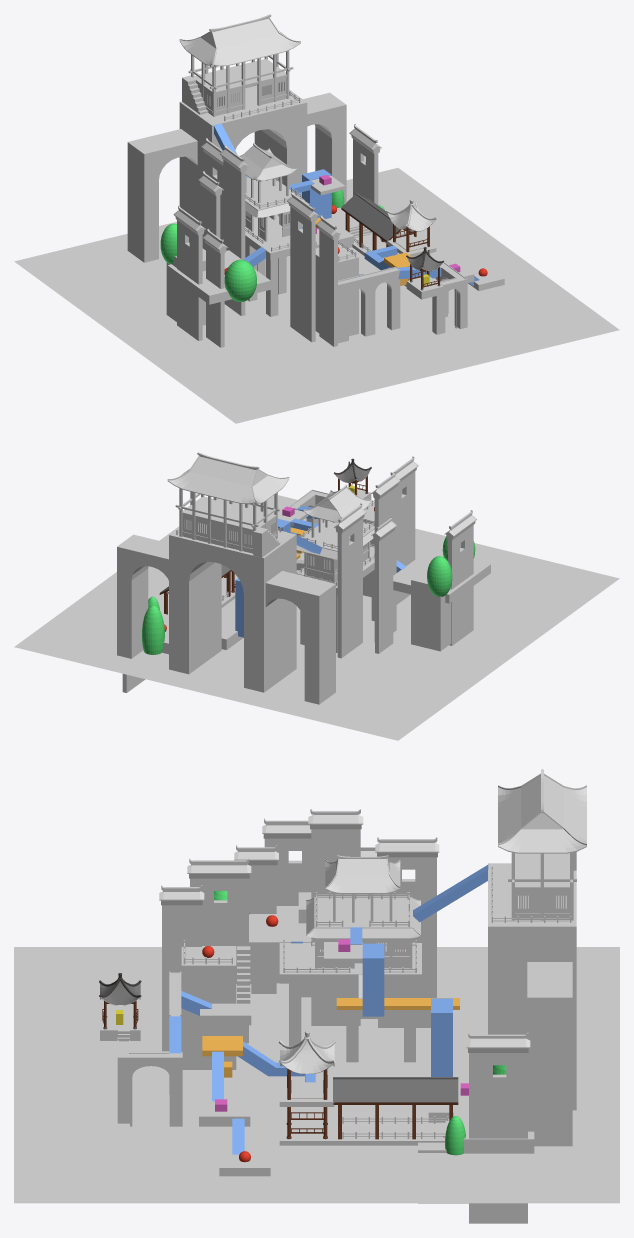
The picture shows the model from 3 angles, top to bottom: view 1: azimuth 30°, elevation 25°; view 2: azimuth 150°, elevation 25°; view 3: azimuth 270°, elevation 25°; orthographic projection. The views are drawn at different scales.
Parts seen in each view (by area): view 1: 平面.001, 立方体.069, 立方体.012, 立方体.179, 立方体.030, 立方体, 立方体.092, 立方体.151, 立方体.001, 立方体.091, 立方体.005, 立方体.178 (+19 smaller); view 2: 平面.001, 立方体.012, 立方体.069, 立方体.037, 立方体.179, 立方体.016, 立方体.092, 立方体.036, 立方体.030, 立方体.199, 立方体.017, 立方体.178 (+10 smaller); view 3: 平面.001, 立方体.012, 立方体.069, 立方体.044, 立方体.179, 立方体.005, 立方体.037, 立方体.151, 立方体.030, 立方体.041, 立方体.007, 立方体.001 (+35 smaller).
Part boxes in pixels (x1,y1,x2,y2): 平面.001: (14, 168, 619, 423); 立方体.069: (127, 92, 346, 262); 立方体.012: (179, 85, 307, 242); 立方体.179: (180, 18, 299, 64); 立方体.030: (290, 206, 315, 342); 立方体: (338, 266, 400, 343); 立方体.092: (177, 220, 202, 340); 立方体.151: (223, 159, 245, 315); 立方体.001: (319, 230, 337, 346); 立方体.091: (206, 243, 224, 347); 立方体.005: (315, 244, 358, 336); 立方体.178: (191, 50, 289, 116); 平面.001: (14, 495, 619, 740); 立方体.012: (169, 523, 296, 692); 立方体.069: (117, 534, 335, 704); 立方体.037: (337, 518, 362, 658); 立方体.179: (168, 456, 288, 502); 立方体.016: (411, 568, 451, 651); 立方体.092: (448, 525, 473, 645); 立方体.036: (375, 531, 393, 653); 立方体.030: (396, 471, 415, 604); 立方体.199: (182, 514, 276, 553); 立方体.017: (393, 549, 490, 603); 立方体.178: (179, 488, 277, 553); 平面.001: (14, 947, 619, 1203); 立方体.012: (488, 863, 576, 1110); 立方体.069: (527, 962, 572, 1146); 立方体.044: (469, 1053, 527, 1223); 立方体.179: (498, 775, 586, 851); 立方体.005: (181, 946, 236, 1069); 立方体.037: (378, 857, 436, 1027); 立方体.151: (311, 829, 360, 1025); 立方体.030: (190, 878, 248, 1043); 立方体.041: (333, 1079, 458, 1102); 立方体.007: (279, 943, 421, 983); 立方体.001: (162, 905, 201, 1051).
Bounding box in the file's own units: 9923 × 6499 × 9923.
